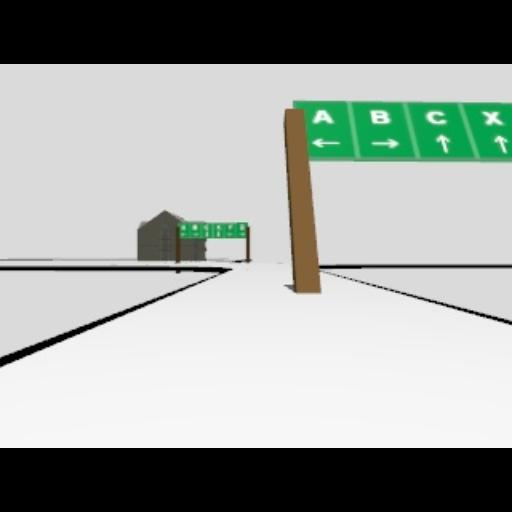A: (312, 107, 334, 123)
B: (369, 108, 393, 126)
C: (426, 109, 446, 125)
Left: (311, 137, 341, 147)
Right: (370, 138, 400, 148)
Straight: (493, 134, 509, 152), (435, 134, 449, 152)
X: (482, 111, 502, 125)
